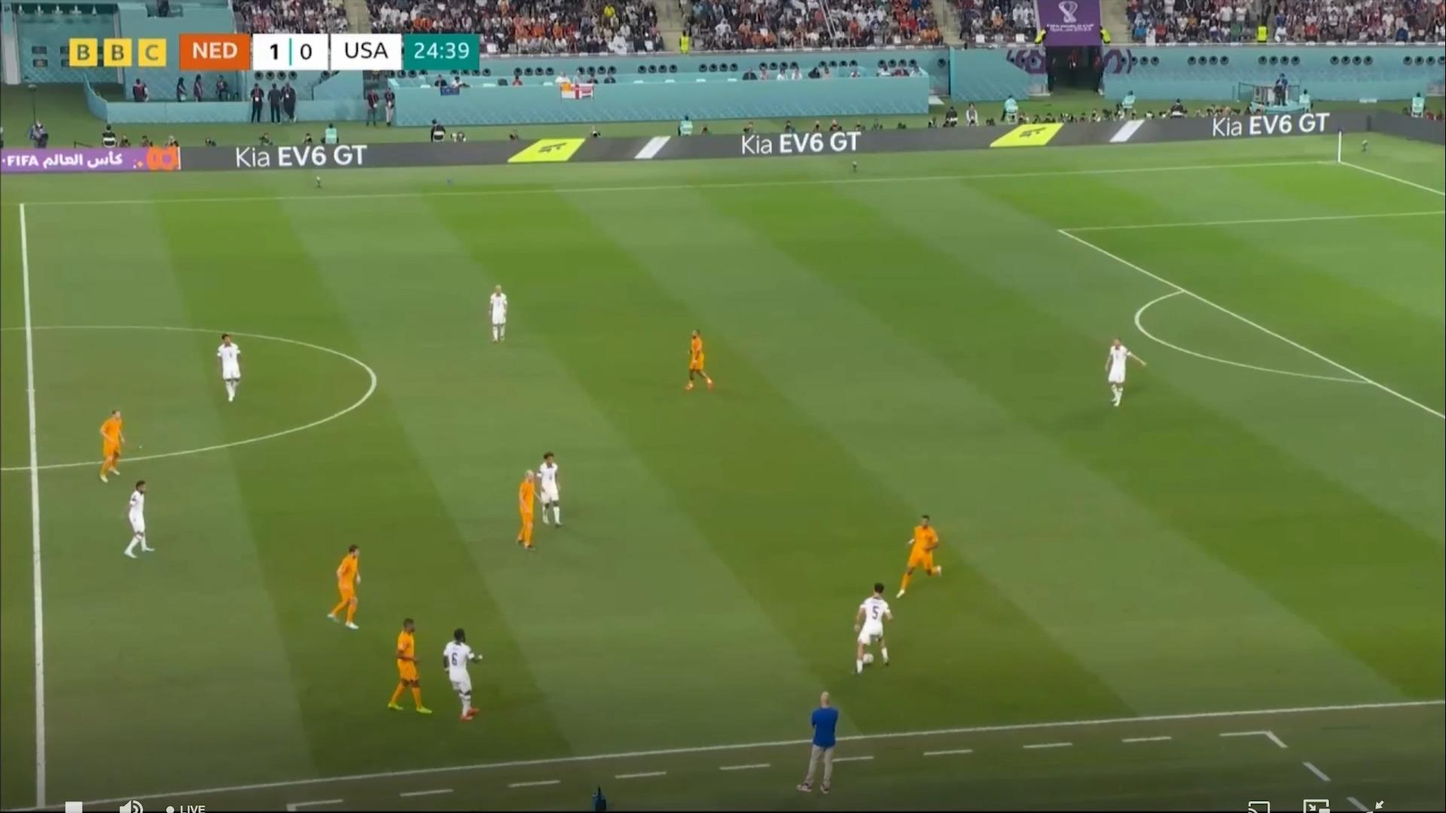Ball: (862, 651, 877, 666)
Player: (383, 619, 435, 717), (796, 691, 840, 796), (387, 618, 433, 715), (894, 514, 942, 600), (895, 515, 942, 599), (442, 628, 483, 723), (853, 583, 893, 677), (445, 627, 484, 723), (325, 546, 367, 635), (854, 583, 894, 676), (1107, 339, 1148, 414), (327, 544, 362, 631), (1104, 338, 1147, 408), (94, 413, 131, 486), (123, 480, 156, 560), (124, 481, 154, 559), (514, 470, 541, 553), (682, 329, 715, 394), (535, 452, 563, 528), (213, 334, 243, 403), (683, 330, 715, 392), (99, 410, 126, 483), (538, 452, 563, 529), (483, 285, 513, 345), (516, 469, 537, 552), (217, 334, 242, 403), (489, 284, 508, 344)
